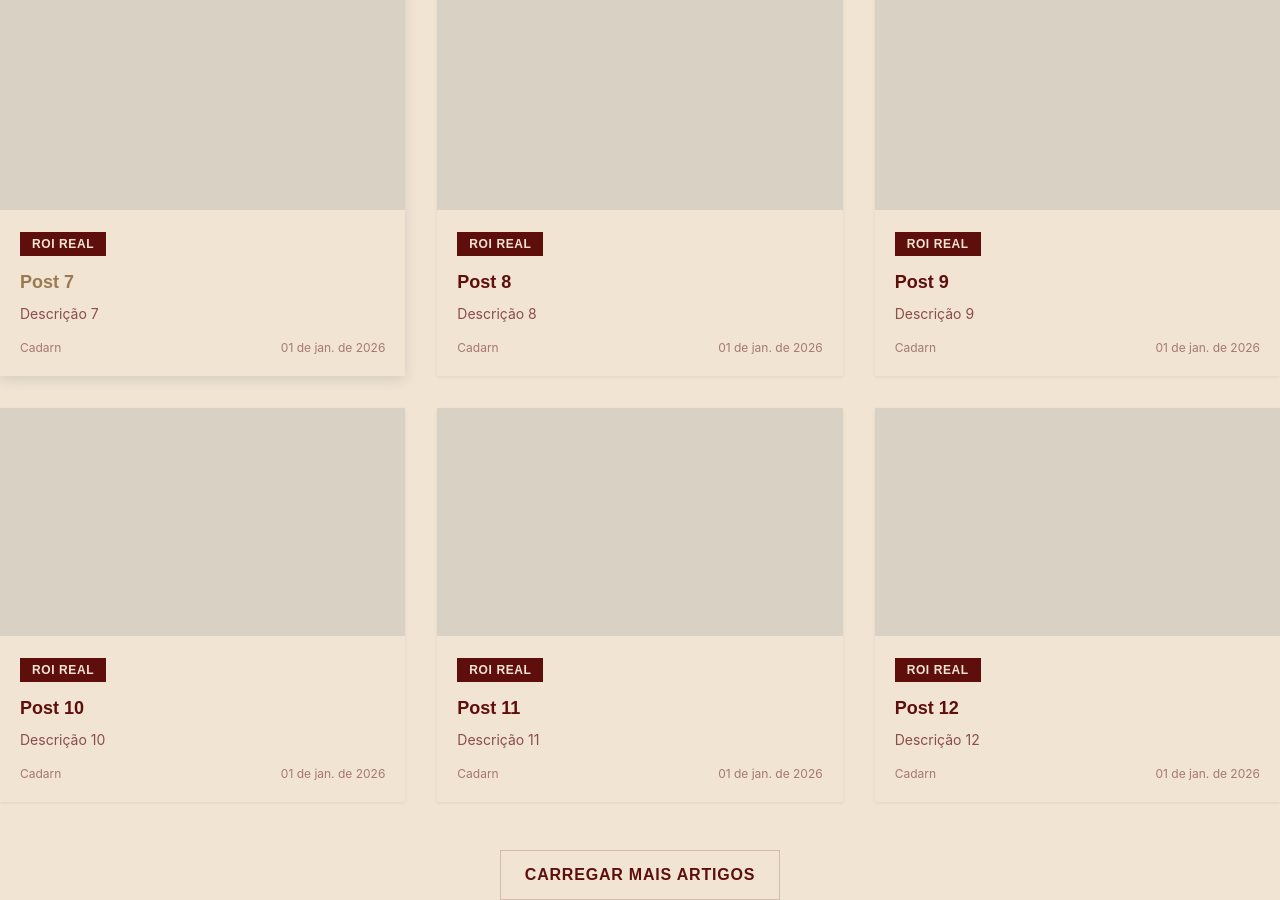
it: BlogFilter › loads more posts on button click
This screenshot has width=1280, height=900.
(page scrolled)
Click the button "Carregar mais artigos" at (640, 875), box [500,850,780,899]
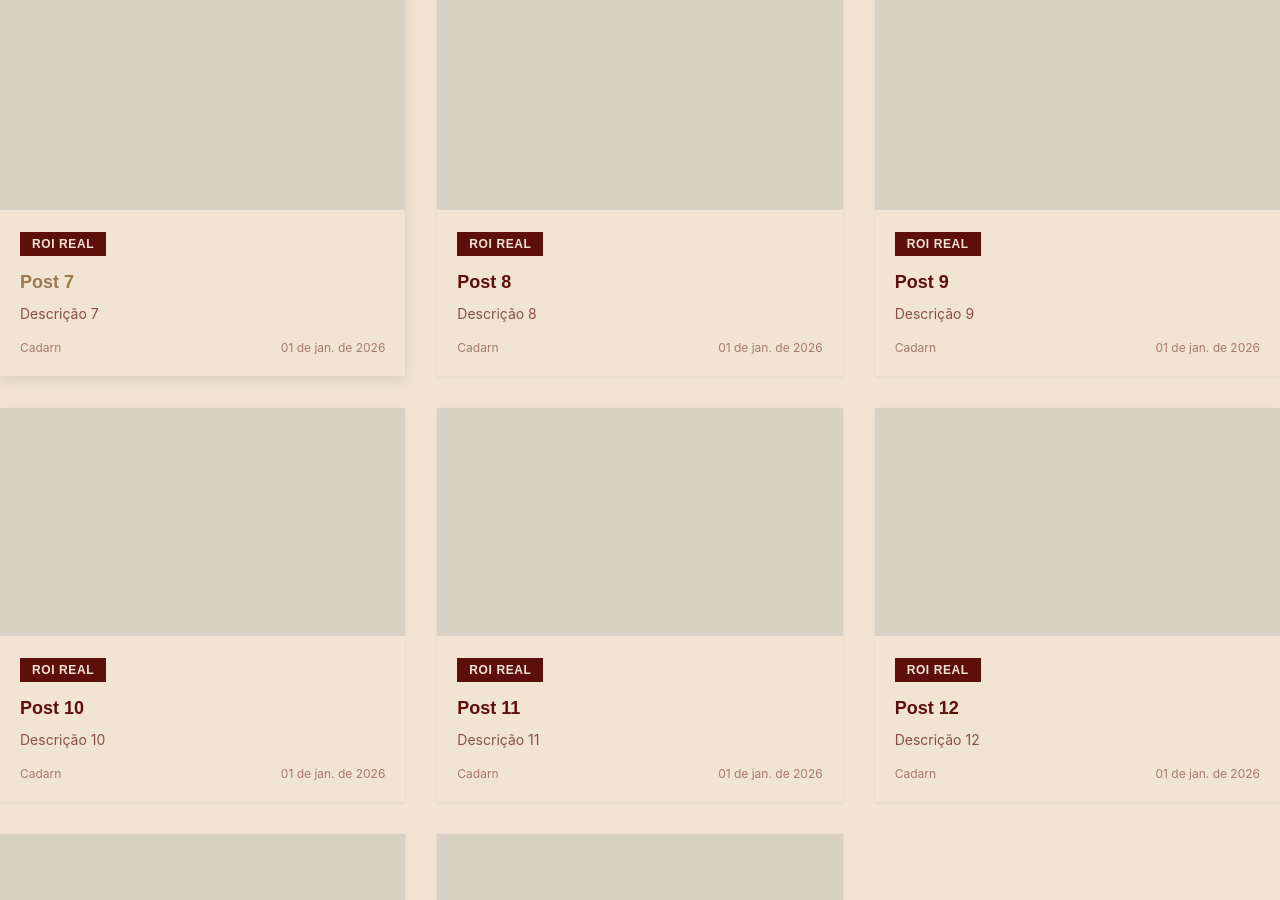
Check: the button "Carregar mais" is gone
